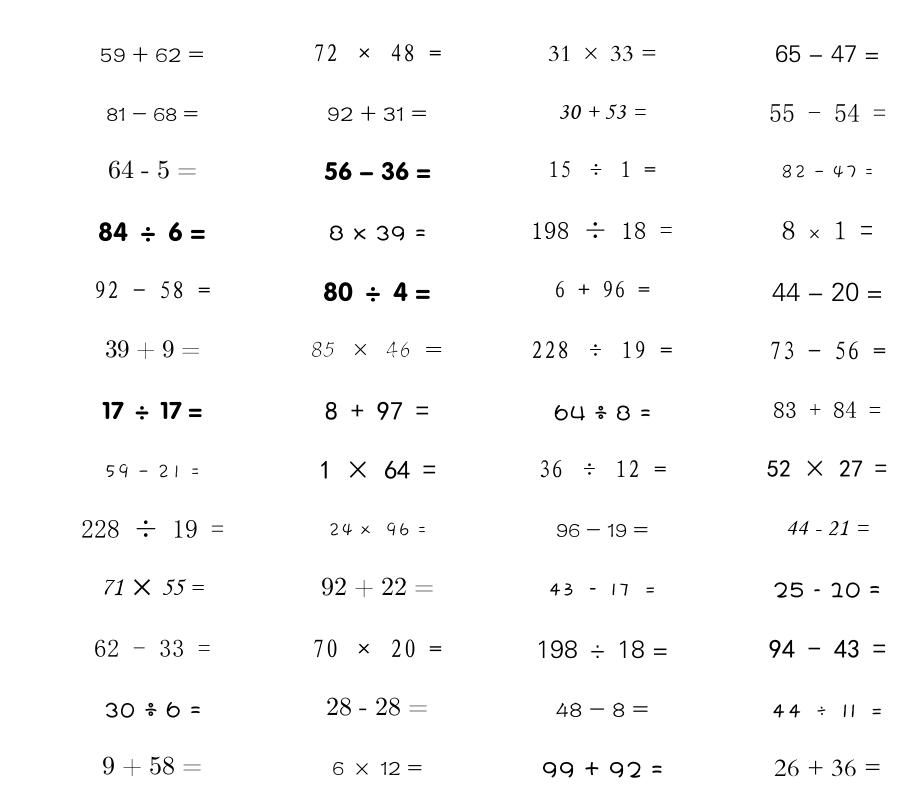MQ: (81, 519, 224, 538), (531, 221, 673, 239), (531, 341, 673, 359), (536, 640, 668, 659), (312, 639, 442, 658), (321, 577, 434, 598), (313, 44, 442, 62), (538, 460, 667, 478), (311, 341, 443, 358), (769, 341, 886, 360), (319, 460, 436, 479), (769, 639, 886, 658), (772, 282, 883, 302), (98, 222, 206, 242), (323, 282, 431, 302), (324, 161, 431, 181), (769, 104, 886, 122), (94, 281, 211, 299), (94, 639, 211, 657), (102, 756, 202, 777), (542, 761, 663, 778), (767, 460, 887, 477), (775, 44, 880, 63), (325, 401, 429, 420), (548, 160, 656, 178), (326, 697, 428, 716), (774, 759, 881, 777), (105, 340, 200, 360), (102, 401, 202, 420), (548, 45, 657, 62), (773, 401, 881, 418), (782, 220, 873, 240), (100, 46, 204, 63), (101, 579, 204, 596), (554, 280, 650, 298), (773, 582, 881, 598), (327, 105, 427, 122), (108, 160, 197, 179), (554, 404, 651, 421), (104, 701, 201, 718), (771, 704, 884, 718), (329, 225, 426, 241), (104, 463, 200, 479), (556, 702, 649, 718), (328, 522, 427, 537), (548, 583, 657, 596), (781, 164, 874, 179), (786, 520, 869, 536), (558, 104, 646, 119), (106, 107, 198, 121), (556, 523, 648, 537), (332, 761, 422, 775)
